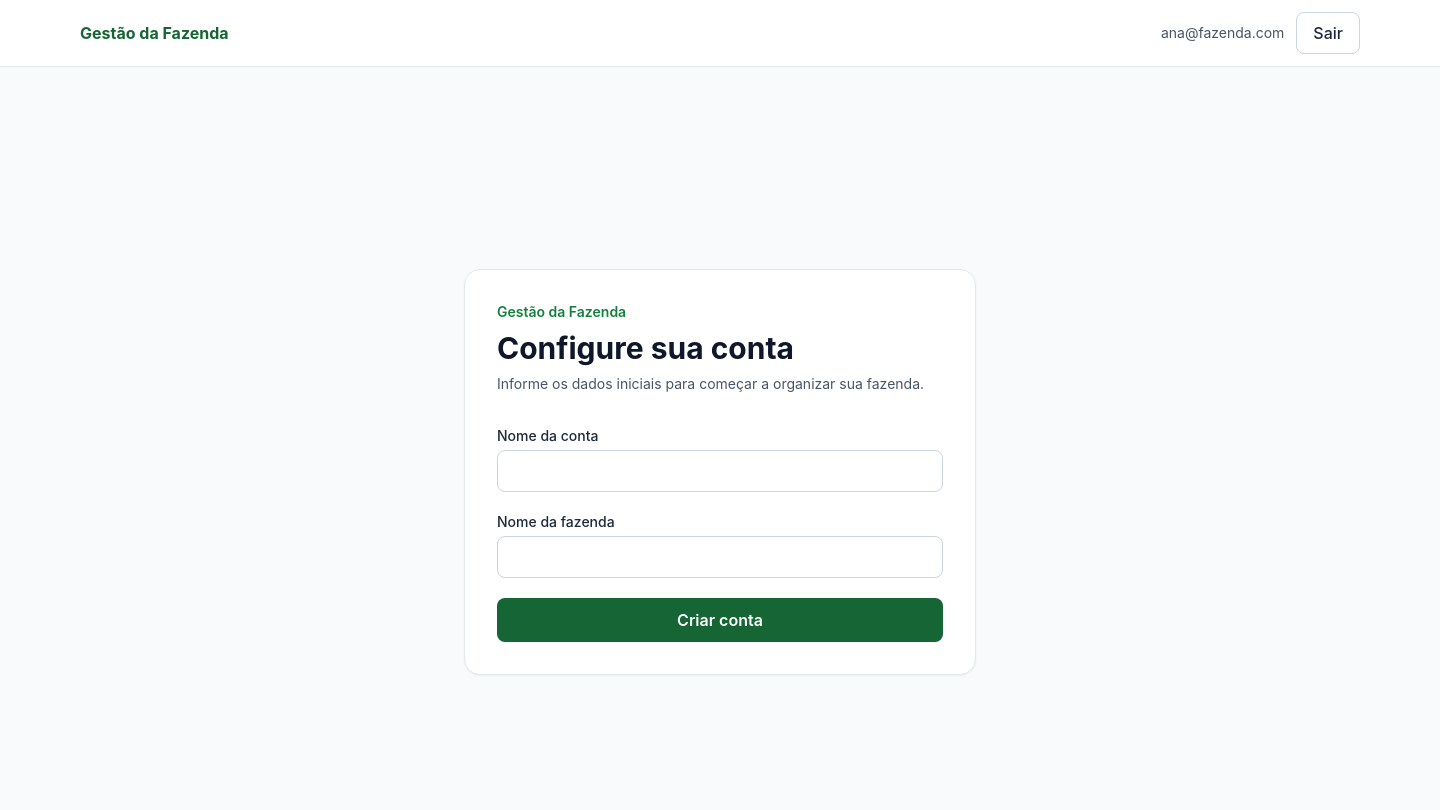
Scenario: application routes › keeps onboarding and a stable message when logout fails
Expected: the field labelled "Nome da conta" is shown, [497,450,943,492]
Click the button "Sair" at (1328, 33), box [1296,12,1360,54]
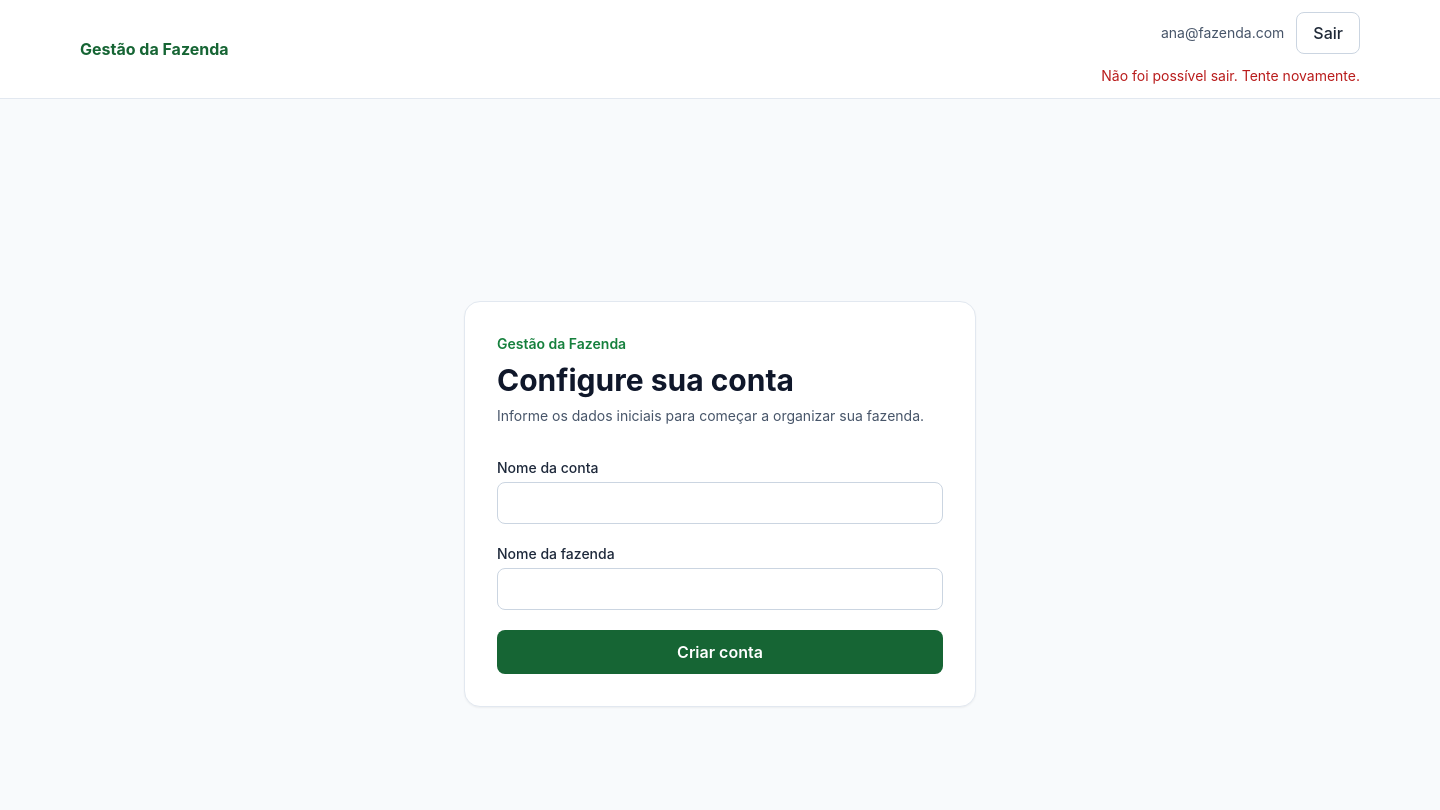
Expected: the field labelled "Nome da conta" is shown, [497,482,943,524]
Now the message reads "Não foi possível sair. Tente novamente.", box [1101,67,1360,84]
